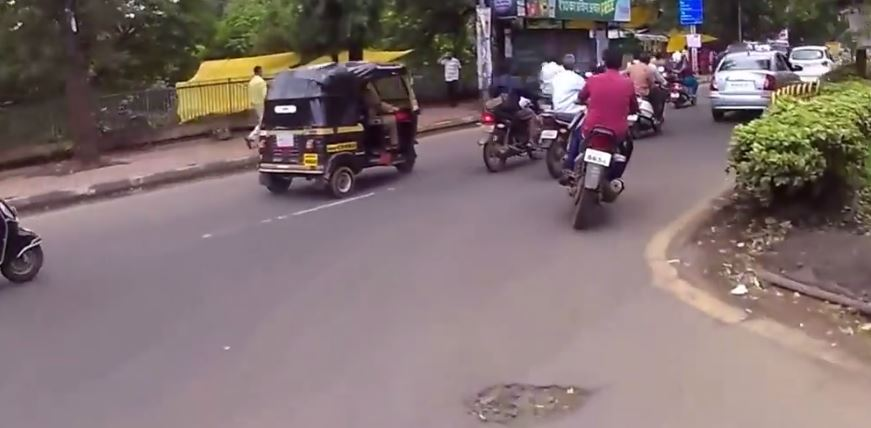autorickshaw: (251, 53, 428, 204)
car: (703, 38, 811, 121), (787, 42, 838, 85)
